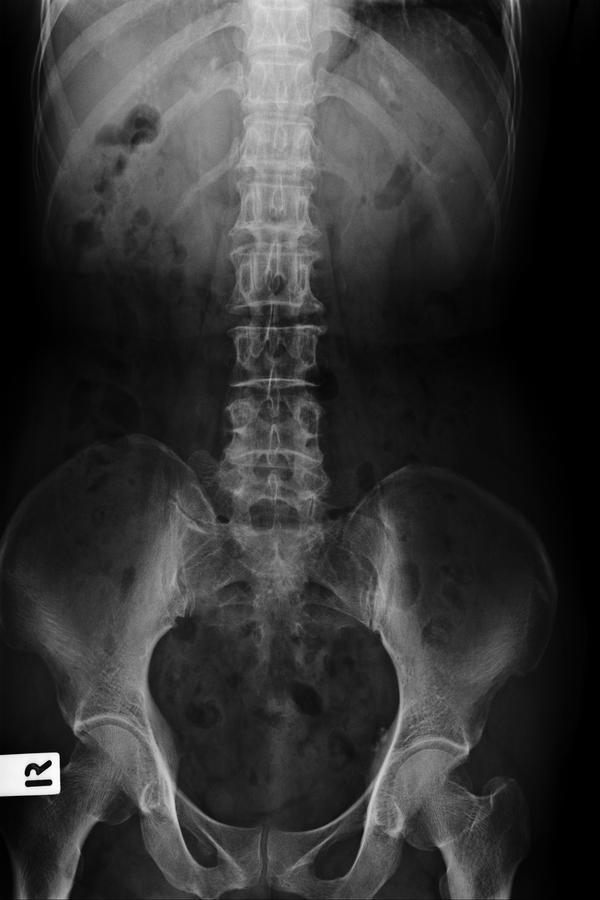not lumbar scoliosis: (211, 139, 336, 542)
